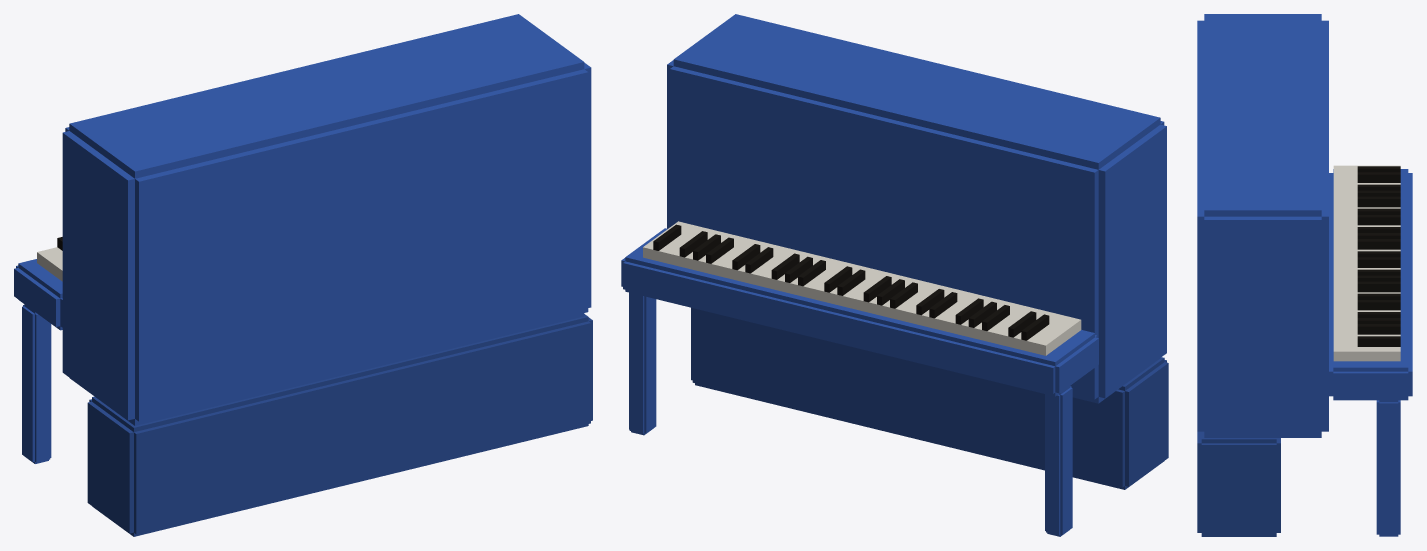
Rendered from mushroom_piano_v0.glb.
3 renders of one model, left to right at view 1: azimuth 30°, elevation 25°; view 2: azimuth 150°, elevation 25°; view 3: azimuth 270°, elevation 25°, orthographic. The views are drawn at different scales.
Visible parts, largest first — view 1: mushroom_piano_v0; view 2: mushroom_piano_v0; view 3: mushroom_piano_v0.
Boxes of the visible parts, bbox=[...] form: mushroom_piano_v0: bbox=[14, 14, 592, 536]; mushroom_piano_v0: bbox=[621, 14, 1168, 536]; mushroom_piano_v0: bbox=[1197, 14, 1412, 536].
Size of the model in its own units: 2 by 1.5 by 0.9.
